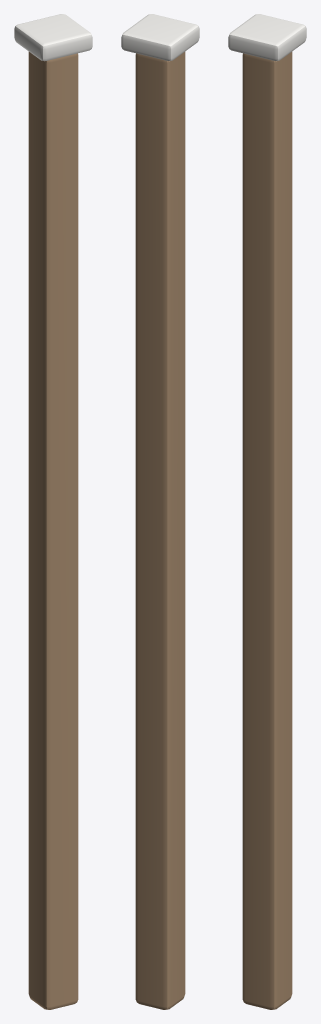
File: LightPole.fbx
3 renders of one model, left to right at view 1: azimuth 30°, elevation 25°; view 2: azimuth 150°, elevation 25°; view 3: azimuth 330°, elevation 25°, orthographic.
Parts seen in each view (by area): view 1: LightPole; view 2: LightPole; view 3: LightPole.
Part boxes in pixels (x1,y1,x2,y2): LightPole: (14, 14, 92, 1009); LightPole: (121, 14, 199, 1009); LightPole: (228, 14, 306, 1009).
Bounding box in the file's own units: 0.24 × 4.28 × 0.24.
